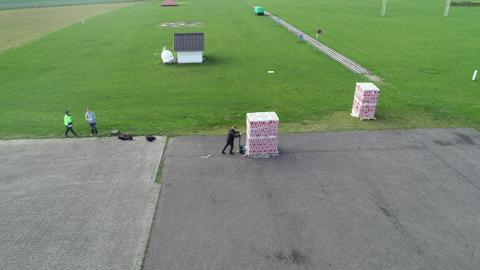RockwoolPallet: (246, 112, 283, 155)
